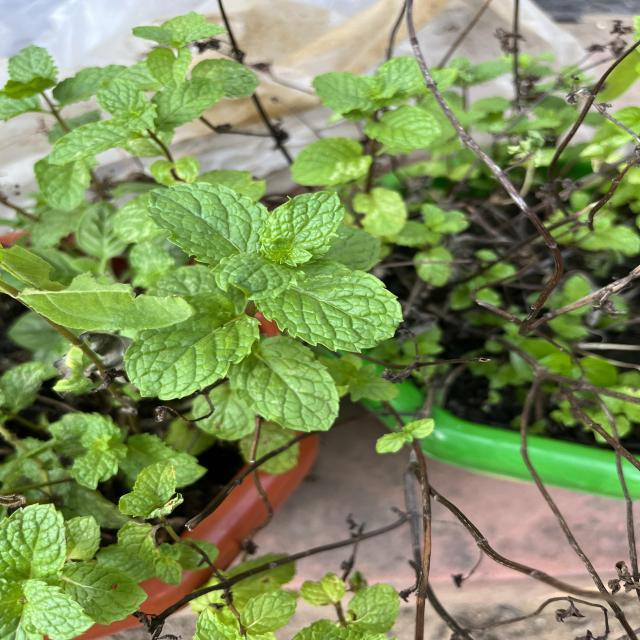Mentha spicata: (123, 290, 264, 403), (252, 258, 407, 356), (226, 334, 342, 434), (146, 180, 272, 268), (260, 190, 349, 264), (0, 502, 68, 584)
